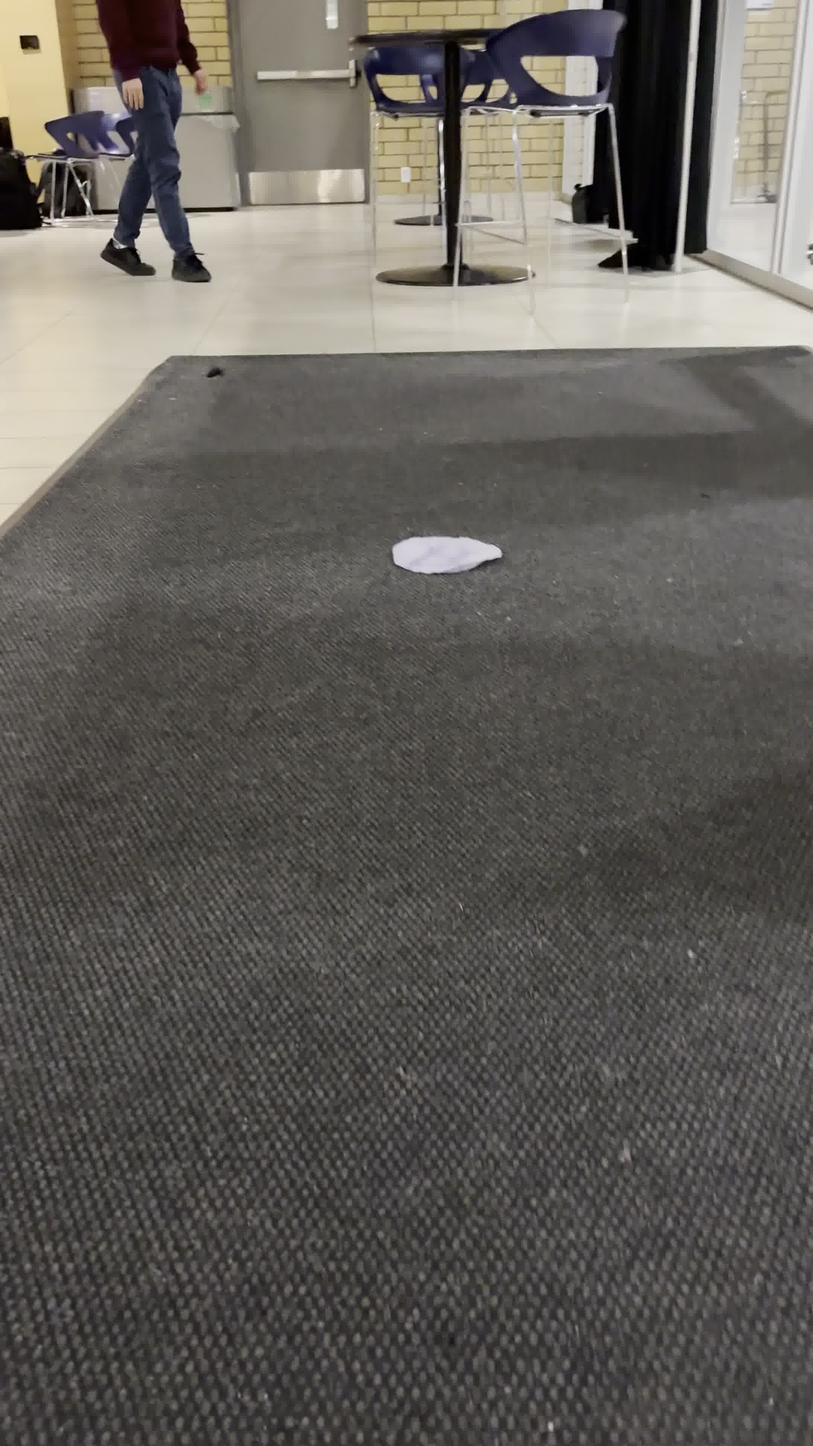Target: (388, 527, 510, 582)
